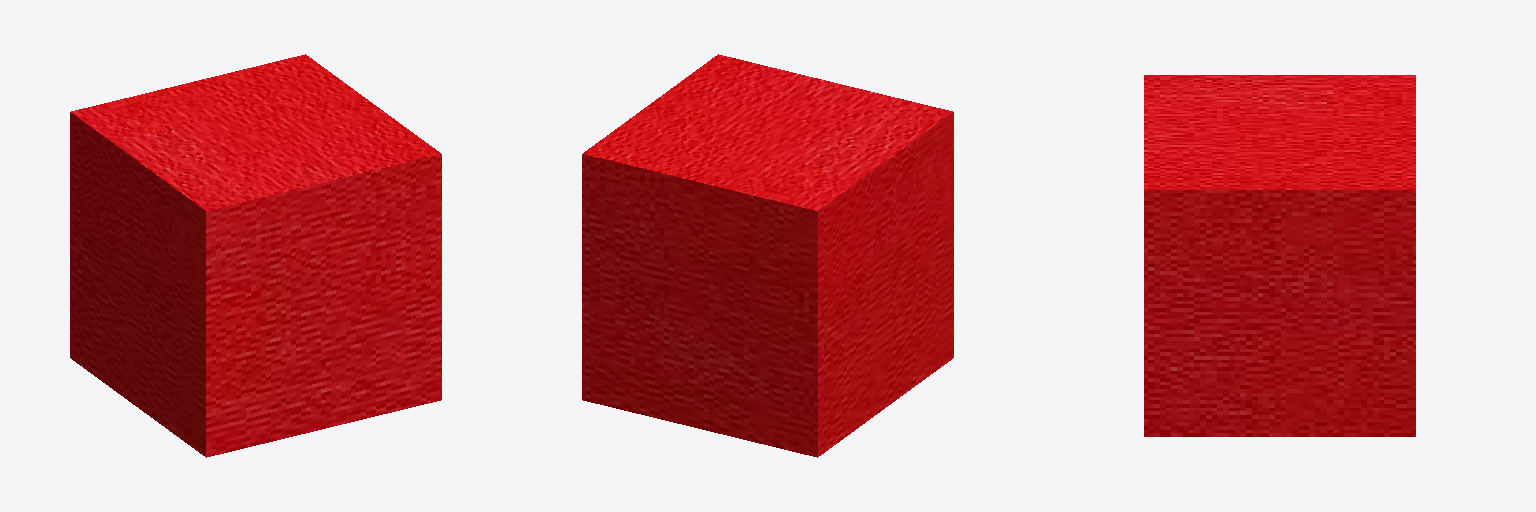
3 views of the same model, side by side, from view 1: azimuth 30°, elevation 25°; view 2: azimuth 150°, elevation 25°; view 3: azimuth 270°, elevation 25° (orthographic).
Visible parts, largest first — view 1: Cube; view 2: Cube; view 3: Cube.
Part boxes in pixels (left/top/right/bottom): Cube: left=70, top=54, right=441, bottom=457; Cube: left=582, top=54, right=953, bottom=457; Cube: left=1144, top=75, right=1415, bottom=436.
Size of the model in its own units: 3.6 by 3.6 by 3.6.
1 materials, 1 textured.